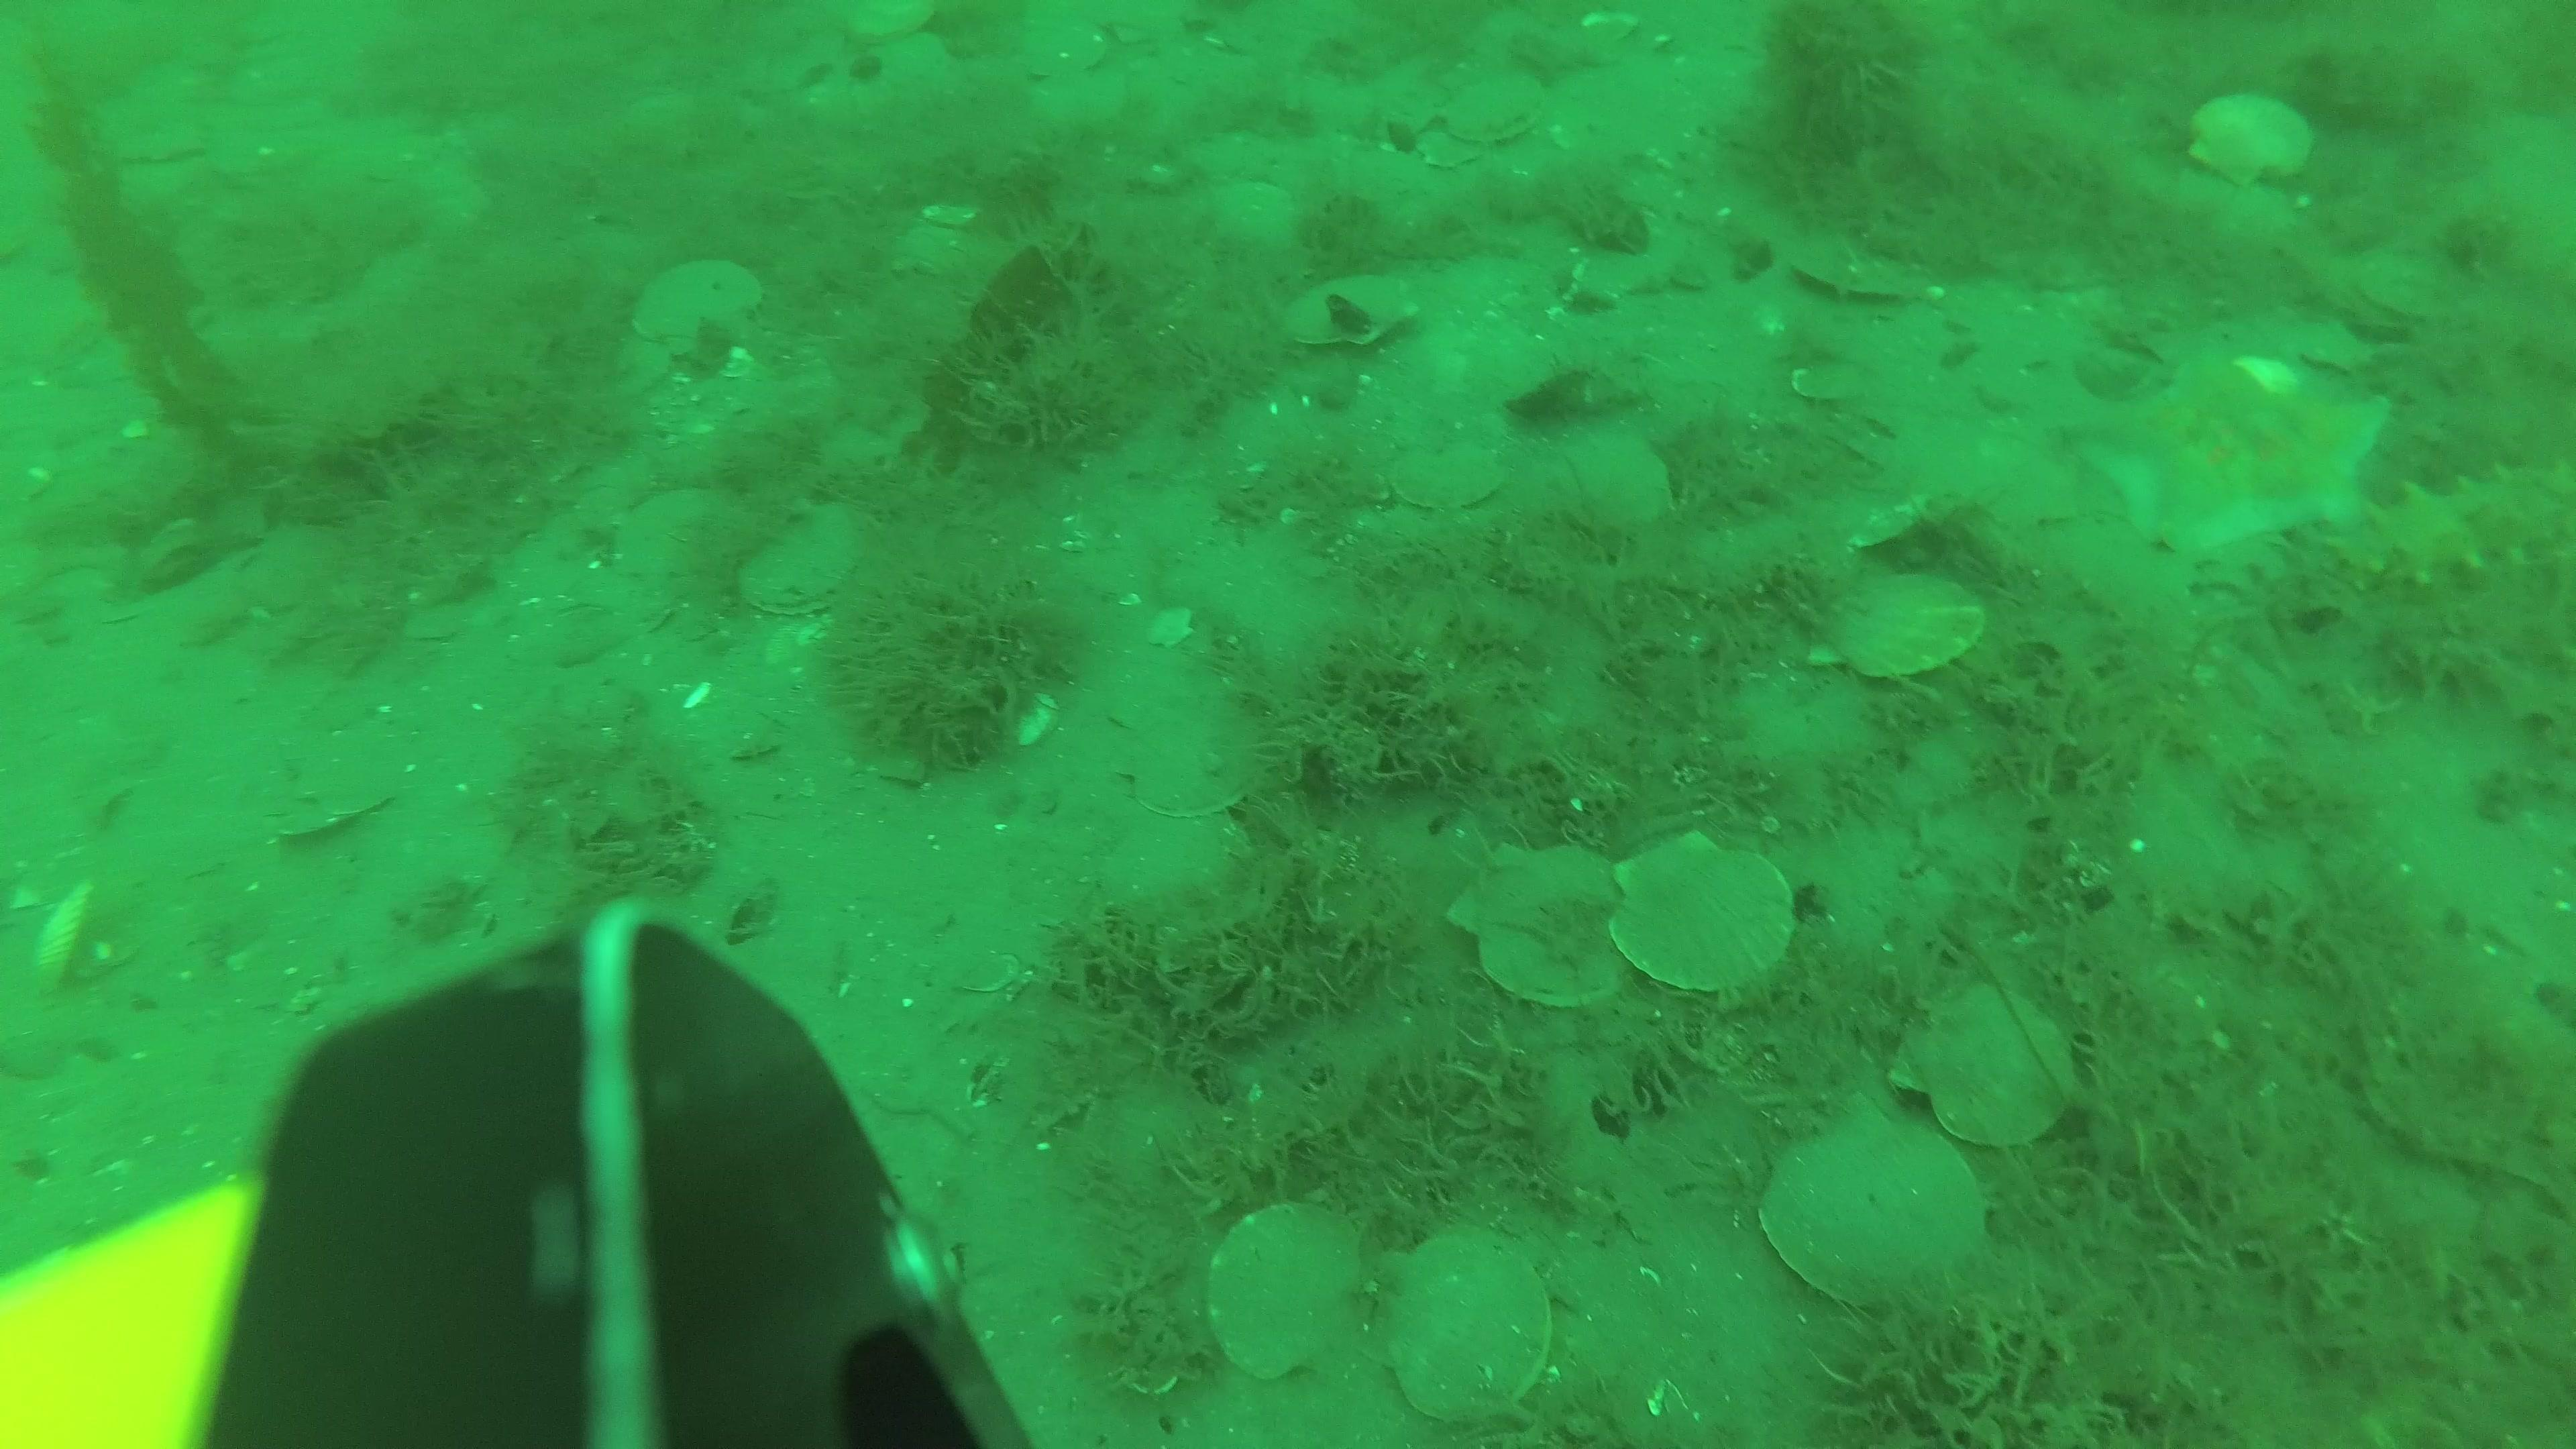holothurian: (2339, 421, 2576, 612)
scallop: (1767, 1093, 1996, 1311), (1445, 839, 1647, 1019), (1378, 1221, 1555, 1417), (1895, 970, 2081, 1141), (1210, 1201, 1362, 1394), (1606, 828, 1780, 993), (1835, 563, 1990, 694), (747, 501, 874, 626), (2190, 81, 2327, 195), (635, 260, 759, 357), (621, 488, 731, 589), (1780, 234, 1904, 322), (1566, 442, 1683, 536), (1396, 446, 1518, 524), (2341, 239, 2445, 322), (1445, 78, 1562, 152), (1288, 280, 1403, 349), (1014, 23, 1109, 87), (842, 4, 943, 50)
starfish: (2097, 338, 2399, 591)
